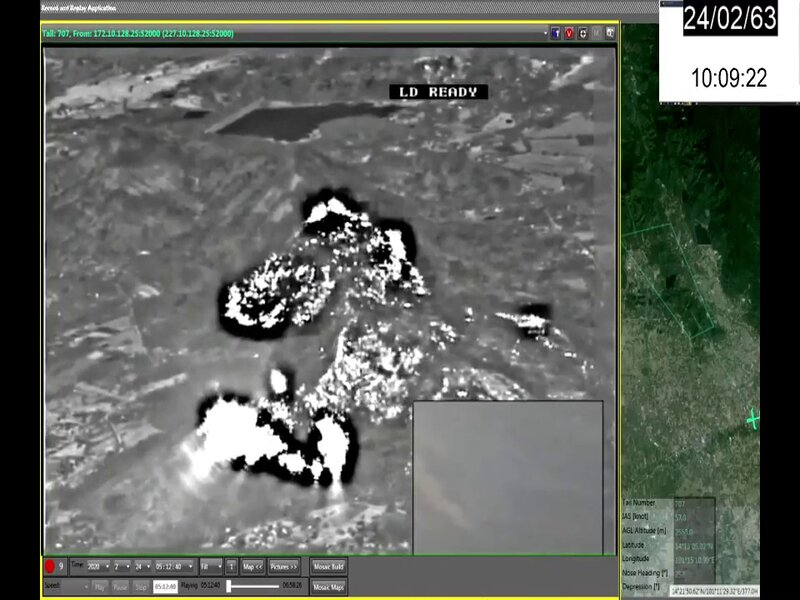Fire: (192, 185, 412, 490)
